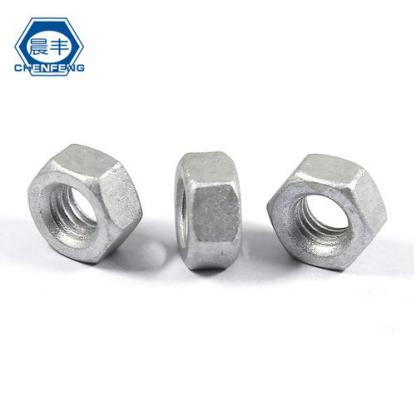FOD: (26, 140, 145, 269), (266, 150, 390, 272), (170, 146, 248, 282)
